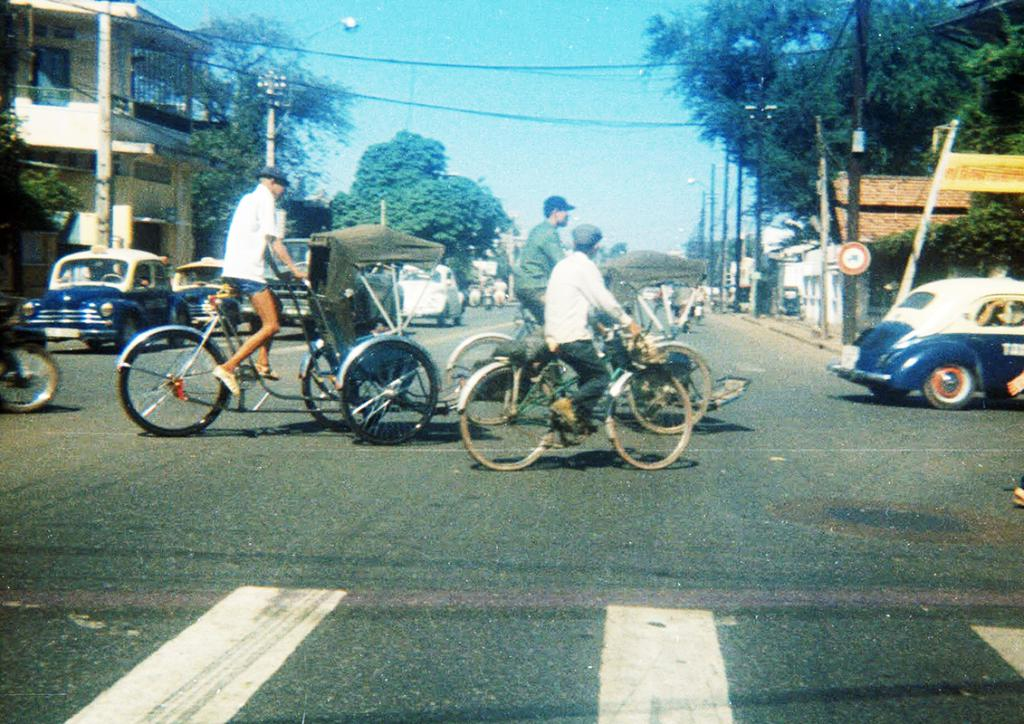Bike: (109, 280, 390, 433), (457, 324, 698, 472)
